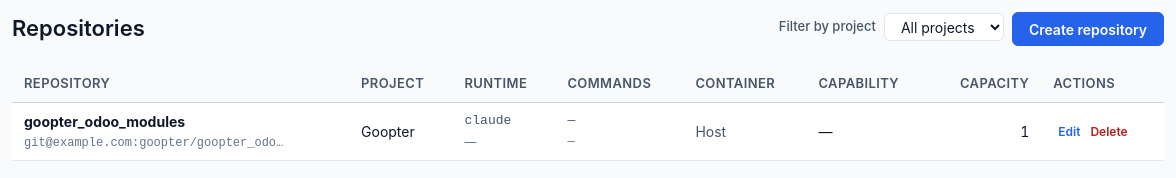
Scenario: RepositoriesPanel › delete › disables the delete button while the request is in flight
Expected: the text "goopter_odoo_modules" is shown, x1=24 y1=112 x2=185 y2=130
Click the button with aria-label "Delete goopter_odoo_modules": (1109, 131) x1=1085 y1=119 x2=1133 y2=143
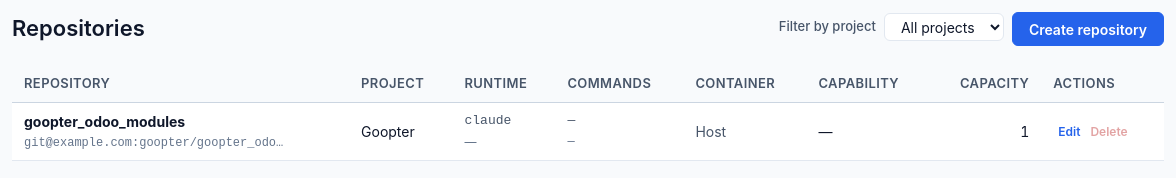
Expected: the button with aria-label "Delete goopter_odoo_modules" is disabled, x1=1085 y1=119 x2=1133 y2=143
